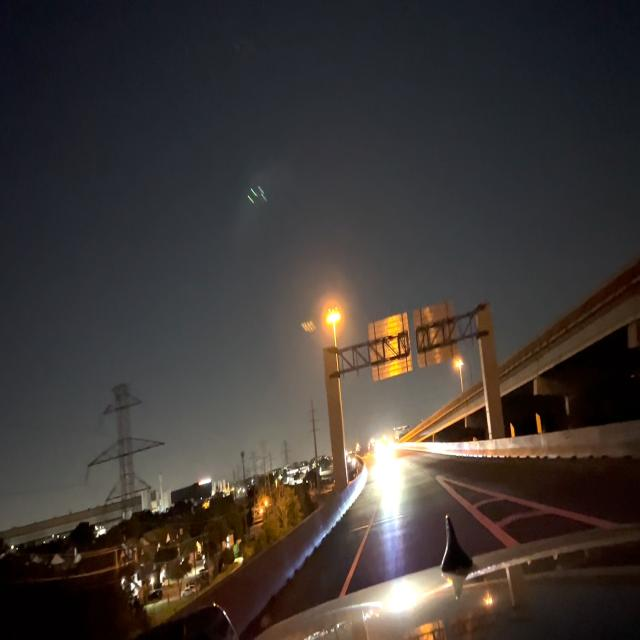back-of-sign: (366, 313, 412, 389), (417, 298, 458, 377)
